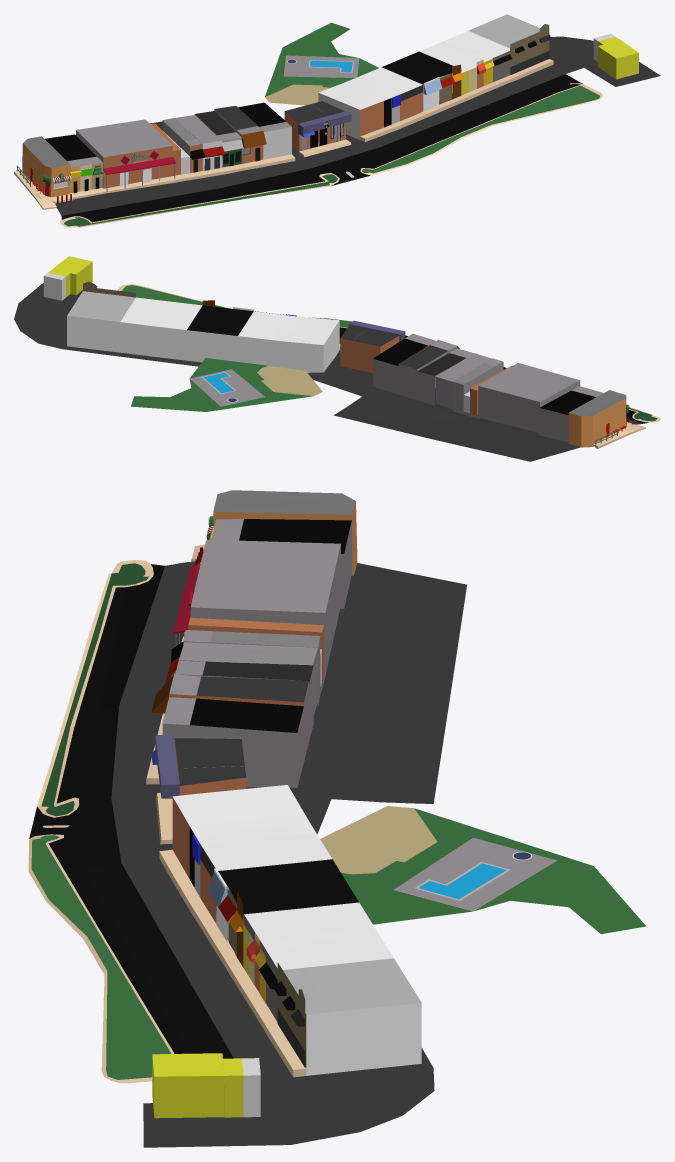
File: isoshops.glb
The picture shows the model from 3 angles, top to bottom: view 1: azimuth 30°, elevation 25°; view 2: azimuth 150°, elevation 25°; view 3: azimuth 270°, elevation 25°; orthographic projection. The views are drawn at different scales.
Parts seen in each view (by area): view 1: Circle.001; view 2: Circle.001; view 3: Circle.001.
Part boxes in pixels (box(x1,y1,x2,y2)): Circle.001: box(14, 14, 660, 227); Circle.001: box(14, 256, 660, 461); Circle.001: box(28, 490, 646, 1147).
Bounding box in the file's own units: 0.9785 × 0.0702 × 0.4329.
60 materials, 3 textured.
